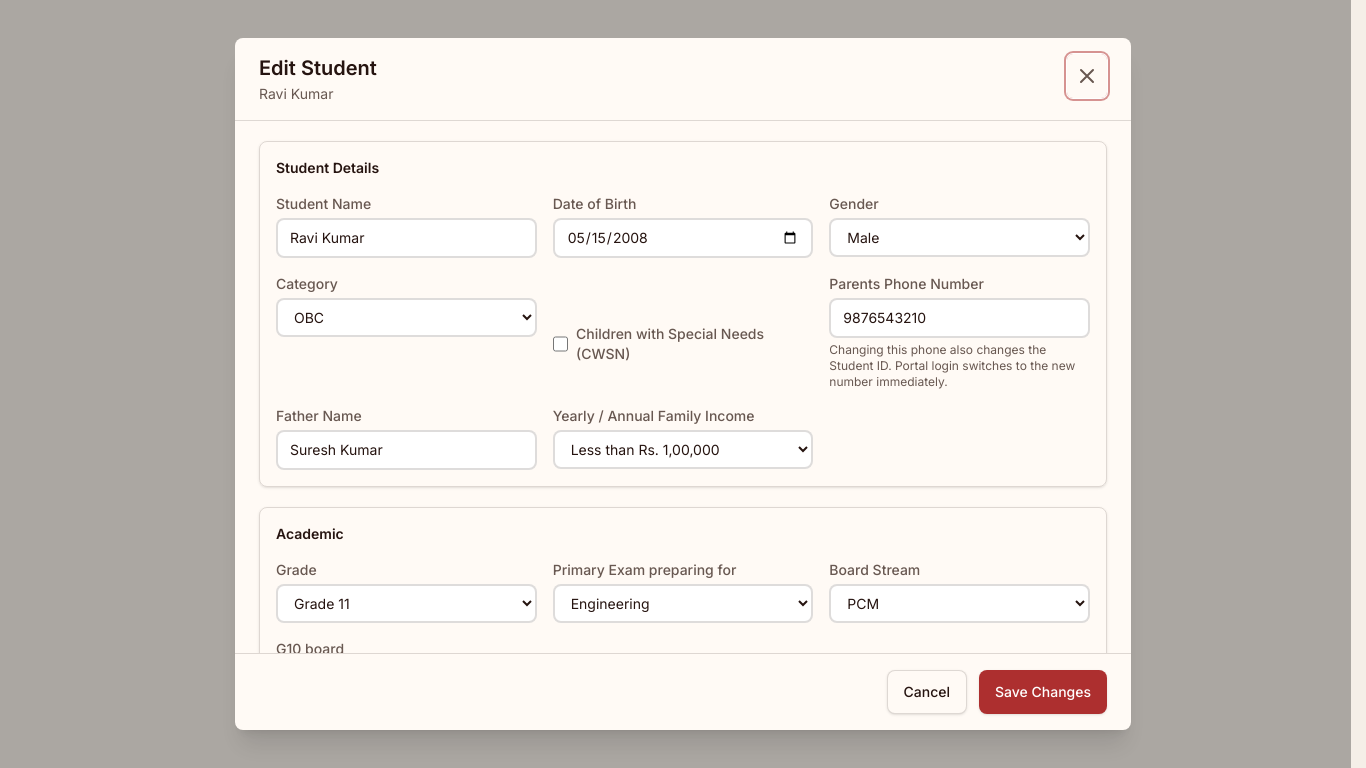
Test: EditStudentModal › uses the Phone Registration Mode 6-9 phone rule in the Edit UI
The image size is (1366, 768).
Replace the text in the field labelled "Parents Phone Number" with "5876543210" at coordinates (960, 318), box [829,298,1090,338]
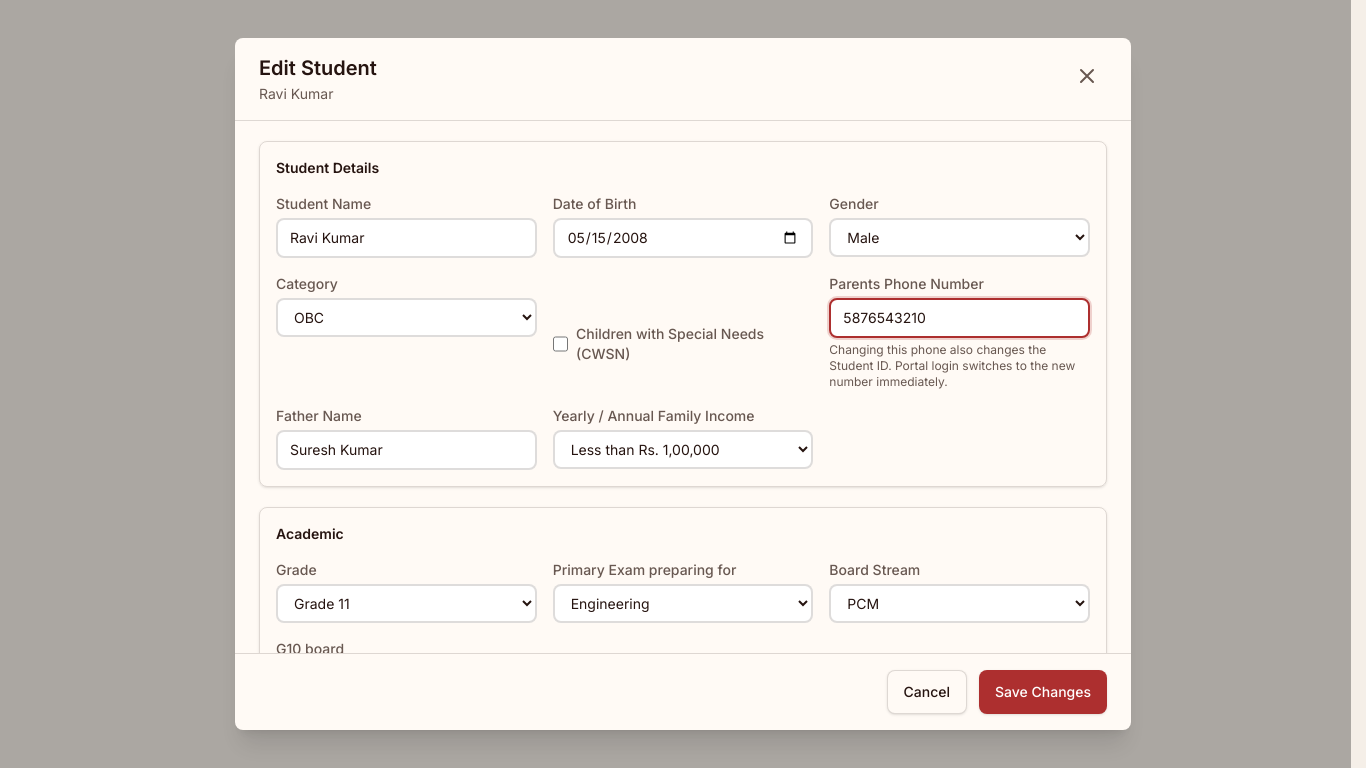
Click the button "Save Changes".
click(1043, 692)  # box [979,670,1107,714]
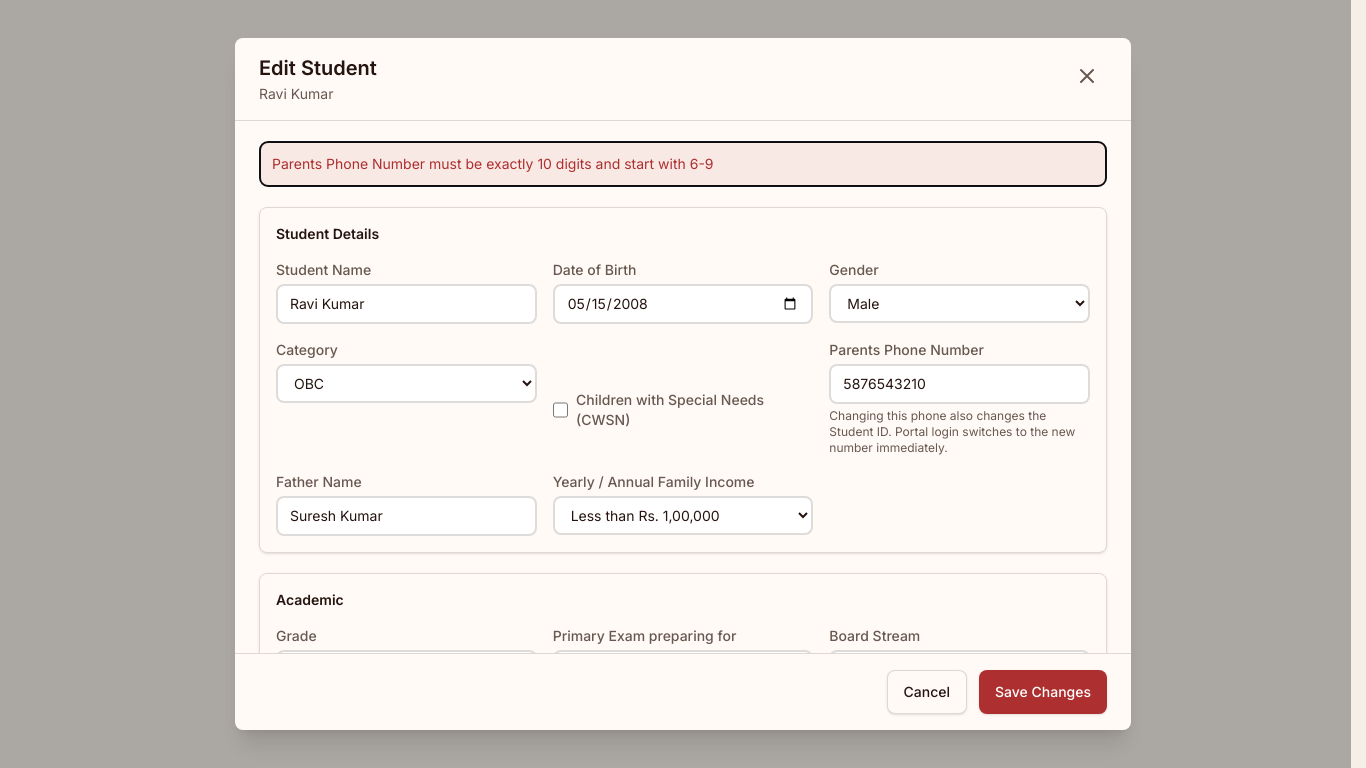
Expected: the text "Parents Phone Number must be exactly 10 digits and start with 6-9" is shown, [259,141,1107,187]
